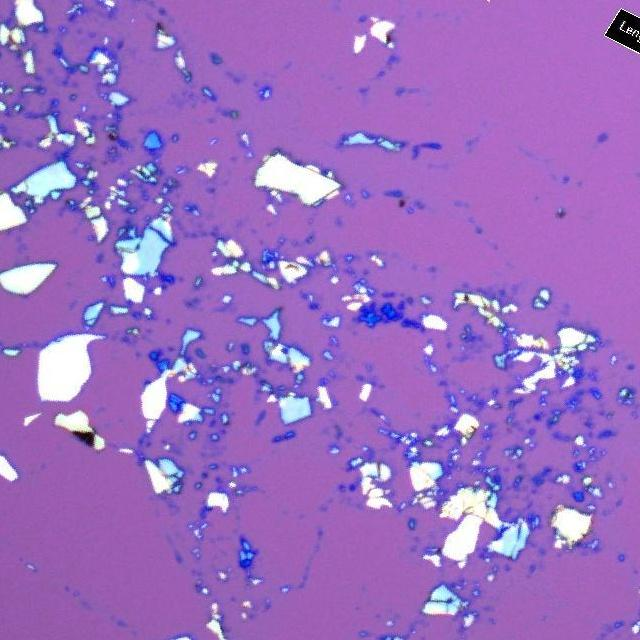monolayer-eWW4: (596, 132, 608, 144)
